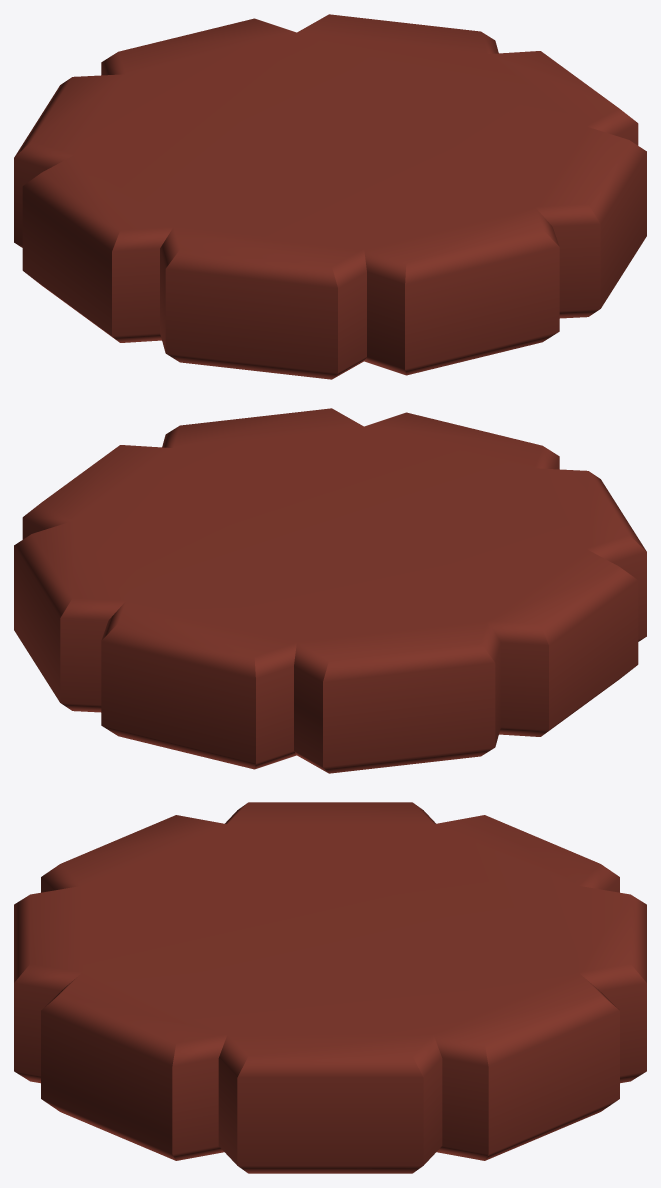
File: pillar_cap_001.fbx
3 renders of one model, top to bottom at view 1: azimuth 30°, elevation 25°; view 2: azimuth 150°, elevation 25°; view 3: azimuth 270°, elevation 25°, orthographic. The views are drawn at different scales.
Visible parts, largest first — view 1: pillar_cap_001; view 2: pillar_cap_001; view 3: pillar_cap_001.
Part boxes in pixels (x1,y1,x2,y2): pillar_cap_001: [14, 14, 646, 379]; pillar_cap_001: [14, 408, 646, 773]; pillar_cap_001: [14, 802, 646, 1173].
Size of the model in its own units: 683 by 683 by 140.
